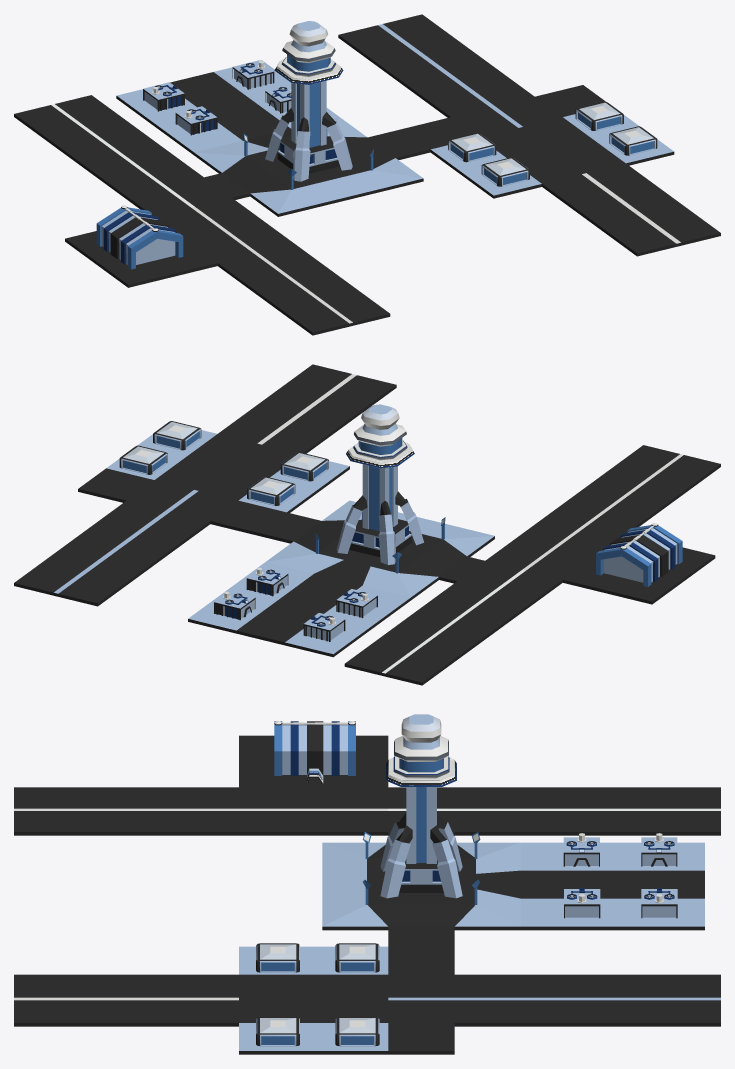
Rendered from KosmodromLevel4.fbx.
The picture shows the model from 3 angles, top to bottom: view 1: azimuth 30°, elevation 25°; view 2: azimuth 150°, elevation 25°; view 3: azimuth 270°, elevation 25°; orthographic projection. The views are drawn at different scales.
Parts seen in each view (by area): view 1: Cube.041, Cylinder.012, Cylinder.007, Cube.043, Cube.044, Cube.042, Cube.069, Cube.046, Cube.068, Cube.047, Cube.052, Cube.057 (+2 smaller); view 2: Cube.041, Cylinder.012, Cylinder.007, Cube.043, Cube.044, Cube.042, Cube.068, Cube.069, Cube.047, Cube.046, Cube.057, Cube.067 (+2 smaller); view 3: Cube.041, Cylinder.012, Cylinder.007, Cube.043, Cube.044, Cube.046, Cube.047, Cube.068, Cube.069, Cube.042, Cube.062, Cube.067 (+2 smaller).
Boxes of the visible parts, x1,y1,x2,y2 form: Cube.041: (14, 14, 720, 335); Cylinder.012: (96, 207, 183, 269); Cylinder.007: (274, 21, 343, 84); Cube.043: (265, 108, 352, 181); Cube.044: (291, 80, 326, 148); Cube.042: (277, 135, 339, 173); Cube.069: (609, 126, 657, 155); Cube.046: (448, 133, 496, 162); Cube.068: (481, 157, 529, 186); Cube.047: (575, 101, 623, 130); Cube.052: (175, 106, 217, 135); Cube.057: (143, 82, 184, 111); Cube.041: (14, 364, 720, 685); Cylinder.012: (596, 525, 682, 586); Cylinder.007: (346, 404, 414, 468); Cube.043: (336, 491, 423, 565); Cube.044: (362, 464, 397, 531); Cube.042: (349, 519, 411, 557); Cube.068: (280, 452, 328, 481); Cube.069: (153, 421, 201, 450); Cube.047: (119, 445, 167, 474); Cube.046: (247, 476, 295, 505); Cube.057: (303, 613, 345, 641); Cube.067: (246, 567, 288, 596); Cube.041: (14, 735, 720, 1054); Cylinder.012: (274, 721, 355, 775); Cylinder.007: (386, 714, 456, 786); Cube.043: (380, 812, 462, 898); Cube.044: (406, 787, 436, 863); Cube.046: (335, 943, 379, 972); Cube.047: (335, 1017, 379, 1046); Cube.068: (256, 943, 299, 972); Cube.069: (256, 1017, 299, 1046); Cube.042: (399, 859, 443, 892); Cube.062: (641, 889, 677, 918); Cube.067: (564, 889, 600, 918).
Size of the model in its own units: 48.77 by 46.21 by 12.17.
Materials: 1 (1 with a texture image).
